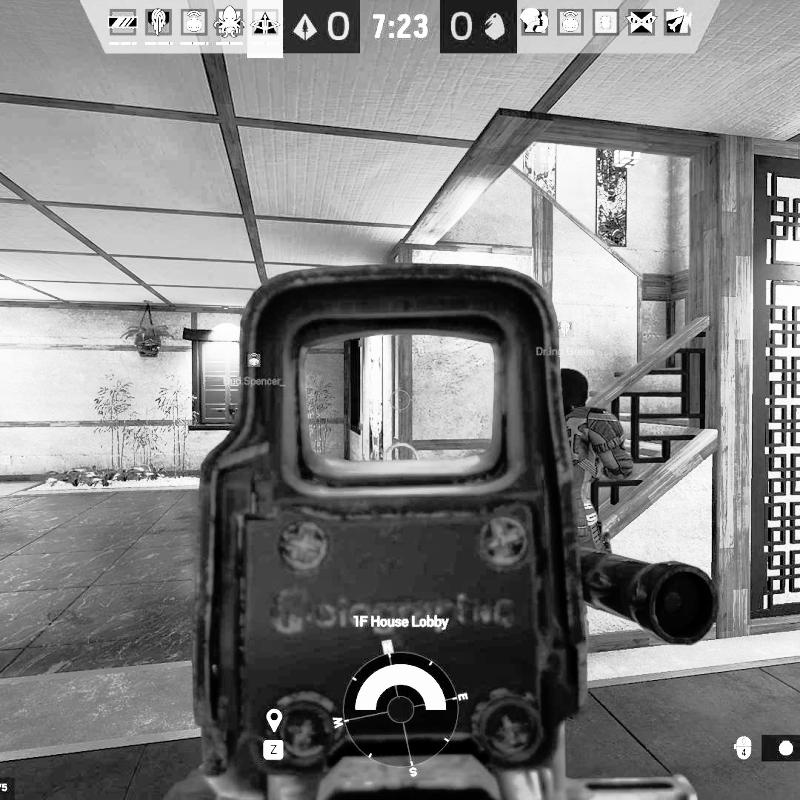Character: (553, 365, 635, 550)
Friend_label: (533, 319, 595, 358), (221, 352, 284, 388)
Head: (553, 367, 590, 413)
